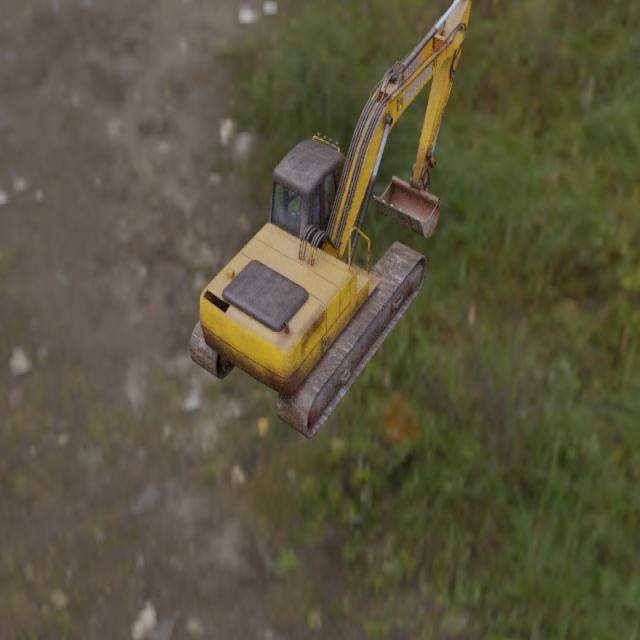excavator: (188, 0, 472, 440)
